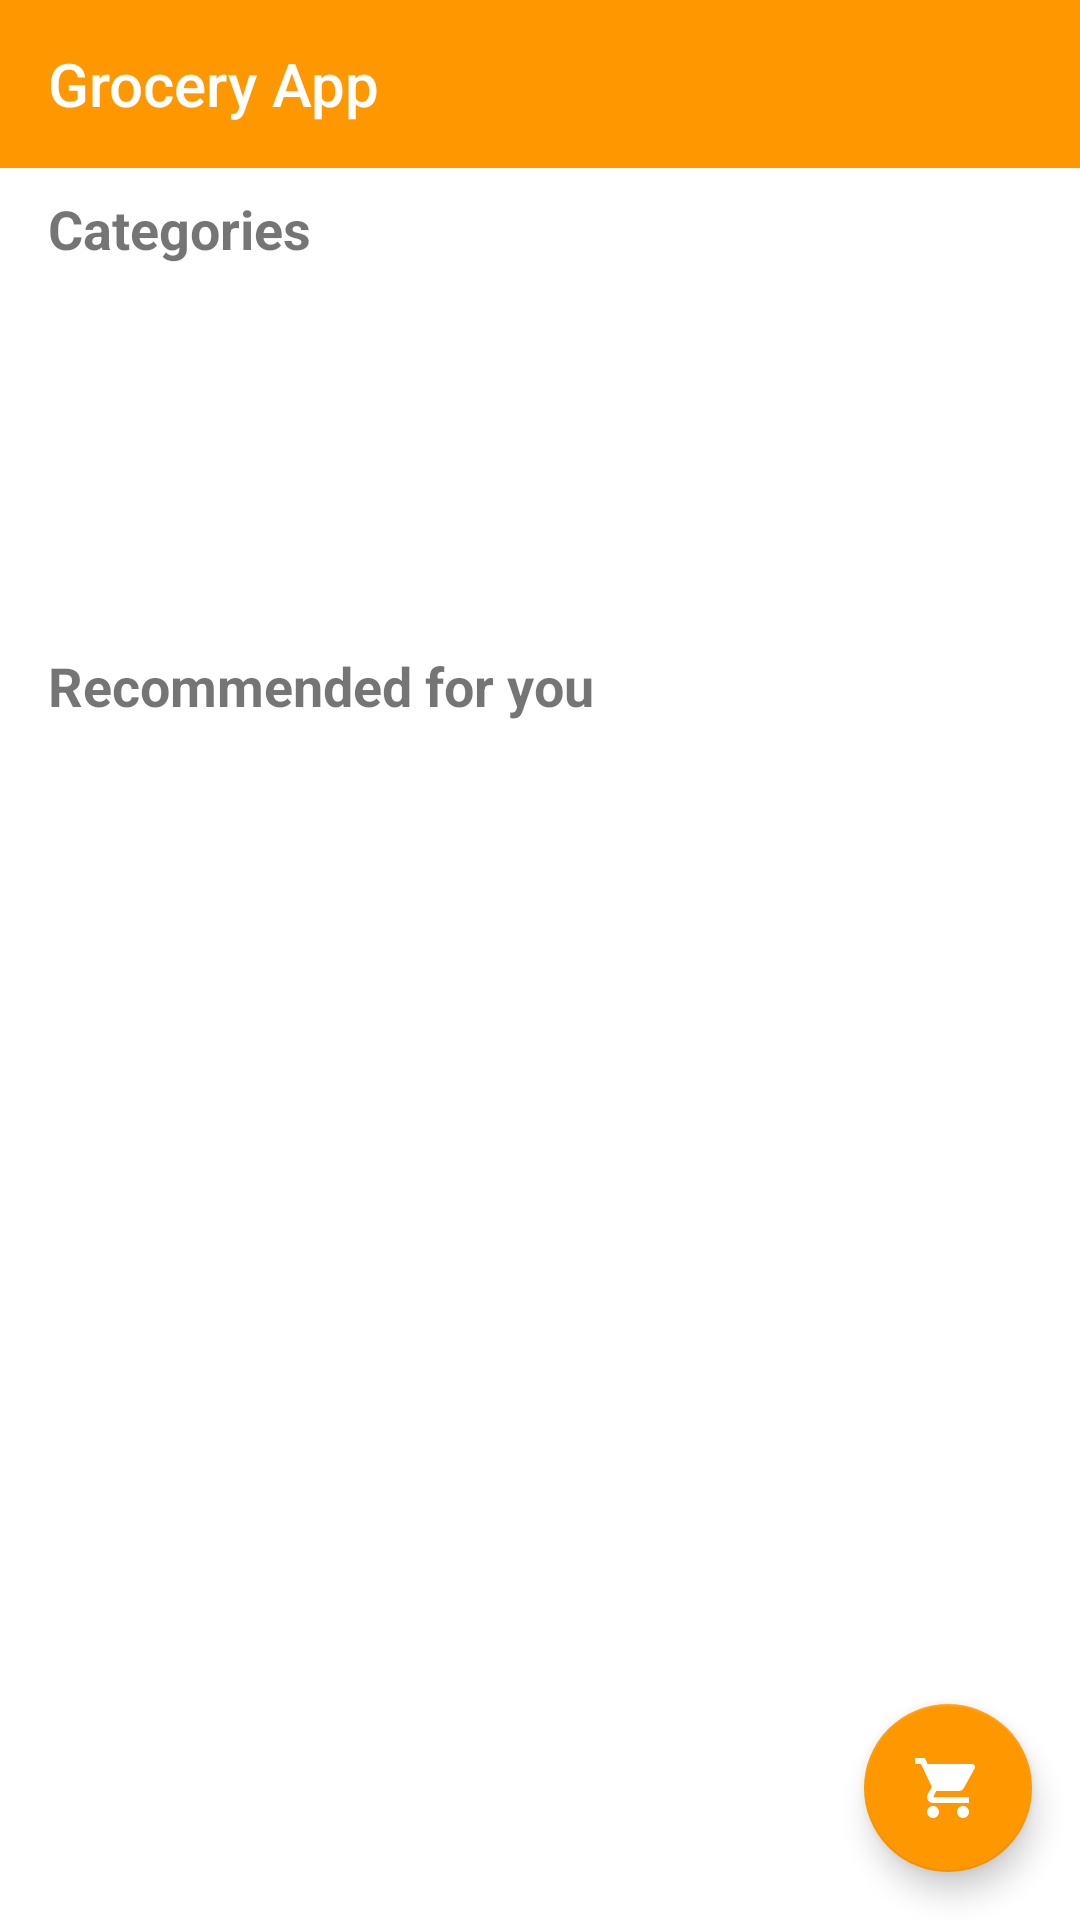

Point at icon controls on the screen. Image size 1080px×1920px, points as [x,y].
Cart: [948,1788]
